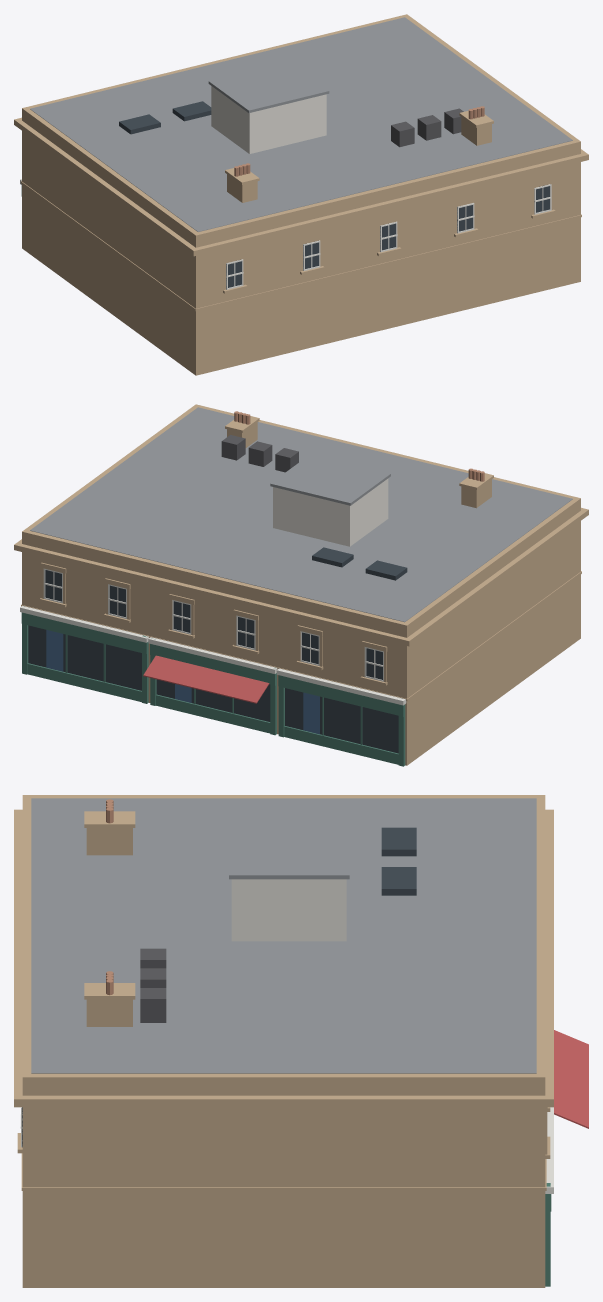
Rendered from shopflats2.glb.
3 renders of one model, top to bottom at view 1: azimuth 30°, elevation 25°; view 2: azimuth 150°, elevation 25°; view 3: azimuth 270°, elevation 25°, orthographic. The views are drawn at different scales.
Parts seen in each view (by area): view 1: shopflats2; view 2: shopflats2; view 3: shopflats2.
Part boxes in pixels (left/top/right/bottom): shopflats2: left=14, top=14, right=588, bottom=375; shopflats2: left=14, top=404, right=588, bottom=766; shopflats2: left=14, top=795, right=588, bottom=1287.
Size of the model in its own units: 23.6 by 10.57 by 19.8.
